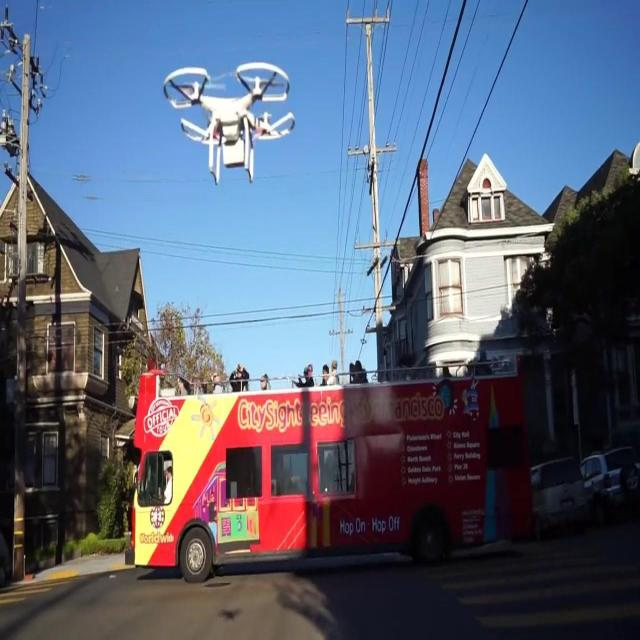drone: (162, 60, 296, 187)
